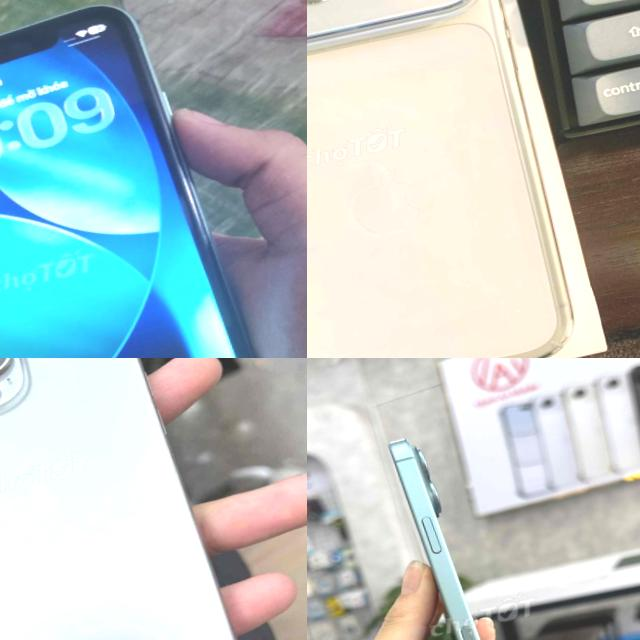gen_11: (0, 0, 273, 358)
gen_15: (0, 358, 263, 640)
gen_16: (388, 439, 480, 640)
gen_17: (307, 0, 592, 358)
